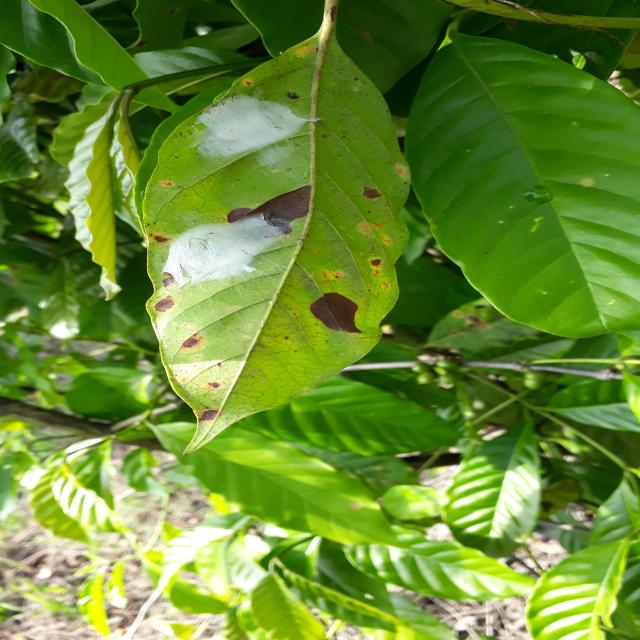Enfermedad-Roya: (145, 33, 411, 452)
